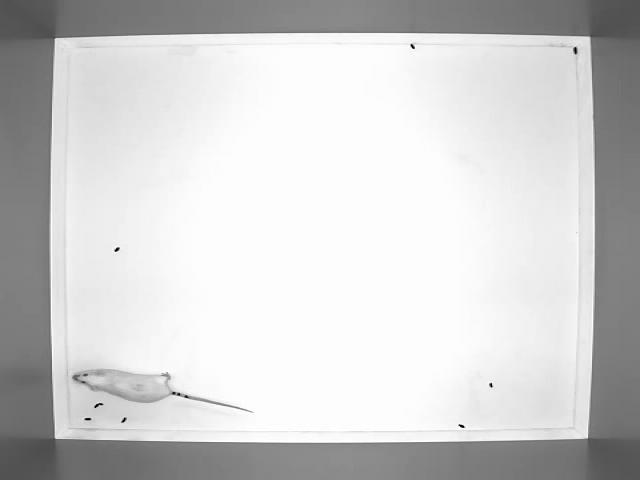Tikus: (66, 366, 260, 418)
